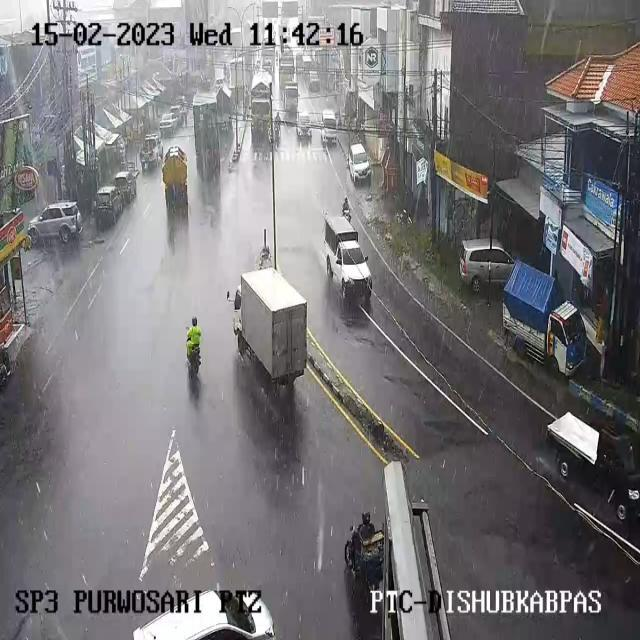Car: (545, 414, 639, 516), (29, 203, 82, 246), (93, 186, 123, 226), (346, 142, 369, 183), (140, 133, 164, 169), (115, 168, 140, 200), (320, 110, 338, 142), (159, 112, 179, 134), (169, 105, 184, 127), (301, 54, 313, 80), (298, 112, 312, 132), (295, 51, 305, 70), (214, 77, 226, 91), (262, 57, 273, 71)
Motorbike: (346, 511, 382, 578), (182, 318, 206, 377), (271, 112, 283, 142), (340, 195, 352, 219)
Truck: (230, 268, 312, 388), (502, 261, 586, 377), (322, 213, 372, 304), (192, 94, 225, 171), (249, 72, 273, 136), (215, 91, 238, 129), (279, 50, 295, 82), (230, 60, 244, 89), (283, 86, 297, 112)
